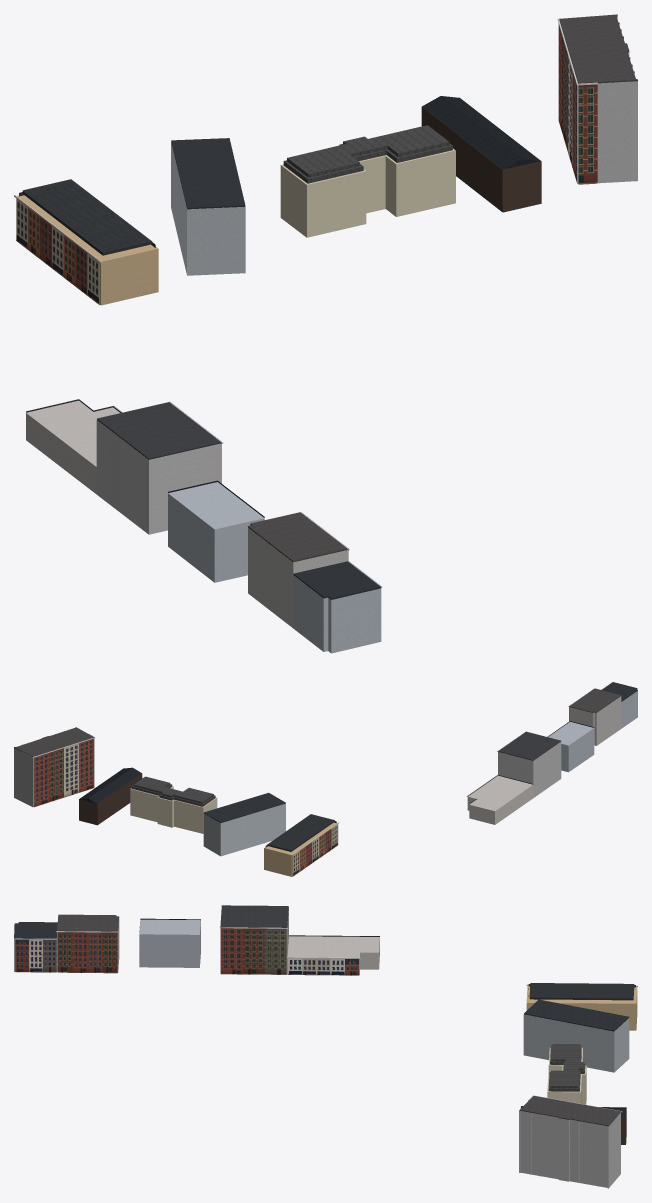
3 views of the same model, one above another, from view 1: azimuth 30°, elevation 25°; view 2: azimuth 150°, elevation 25°; view 3: azimuth 270°, elevation 25° (orthographic). The views are drawn at different scales.
Parts seen in each view (by area): view 1: bldg_516641400, bldg_516849919, bldg_516849920, bldg_1187573245, bldg_516849922, bldg_516849918, bldg_516641401_roof_b, bldg_180843188, bldg_180843238, bldg_1187573245_roof, bldg_516849919_roof, bldg_180843238_roof (+10 smaller); view 2: bldg_180843238_facade0, bldg_1187573245, bldg_516849918, bldg_516641400, bldg_516849919, bldg_516849920, bldg_516849921, bldg_180843188, bldg_516641401_roof_b, bldg_1187573245_roof, bldg_516641401_facade0, bldg_180843238 (+9 smaller); view 3: bldg_180843238, bldg_1187573245, bldg_516849919_facade0, bldg_516849920, bldg_516849921_facade0, bldg_516849918, bldg_516641401_roof_b, bldg_1187573245_roof, bldg_180843238_roof, bldg_516849919_roof, bldg_516849922_facade0, bldg_516849918_facade0 (+5 smaller).
Boxes of the visible parts, x1=… form: bldg_516641400: x1=280, y1=148, x2=455, y2=237; bldg_516849919: x1=96, y1=420, x2=221, y2=534; bldg_516849920: x1=168, y1=482, x2=264, y2=582; bldg_1187573245: x1=171, y1=142, x2=245, y2=275; bldg_516849922: x1=293, y1=575, x2=381, y2=653; bldg_516849918: x1=26, y1=400, x2=119, y2=494; bldg_516641401_roof_b: x1=22, y1=179, x2=152, y2=255; bldg_180843188: x1=421, y1=102, x2=541, y2=212; bldg_180843238: x1=578, y1=16, x2=637, y2=183; bldg_1187573245_roof: x1=171, y1=138, x2=245, y2=209; bldg_516849919_roof: x1=97, y1=402, x2=220, y2=459; bldg_180843238_roof: x1=559, y1=14, x2=637, y2=83; bldg_180843238_facade0: x1=32, y1=737, x2=95, y2=807; bldg_1187573245: x1=203, y1=803, x2=285, y2=856; bldg_516849918: x1=467, y1=775, x2=533, y2=824; bldg_516641400: x1=130, y1=786, x2=217, y2=833; bldg_516849919: x1=498, y1=741, x2=561, y2=797; bldg_516849920: x1=548, y1=721, x2=594, y2=772; bldg_516849921: x1=569, y1=696, x2=621, y2=745; bldg_180843188: x1=79, y1=773, x2=142, y2=825; bldg_516641401_roof_b: x1=267, y1=814, x2=334, y2=851; bldg_1187573245_roof: x1=203, y1=792, x2=285, y2=822; bldg_516641401_facade0: x1=292, y1=822, x2=339, y2=876; bldg_180843238: x1=14, y1=739, x2=94, y2=807; bldg_180843238: x1=519, y1=1111, x2=620, y2=1188; bldg_1187573245: x1=523, y1=1014, x2=629, y2=1072; bldg_516849919_facade0: x1=219, y1=927, x2=287, y2=974; bldg_516849920: x1=139, y1=919, x2=200, y2=967; bldg_516849921_facade0: x1=56, y1=931, x2=118, y2=973; bldg_516849918: x1=287, y1=936, x2=379, y2=975; bldg_516641401_roof_b: x1=529, y1=983, x2=634, y2=1000; bldg_1187573245_roof: x1=524, y1=999, x2=629, y2=1031; bldg_180843238_roof: x1=519, y1=1096, x2=620, y2=1126; bldg_516849919_roof: x1=220, y1=905, x2=288, y2=927; bldg_516849922_facade0: x1=14, y1=938, x2=57, y2=972; bldg_516849918_facade0: x1=286, y1=957, x2=360, y2=975.
Size of the model in its own units: 239 by 29.54 by 267.
26 materials, 16 textured.
